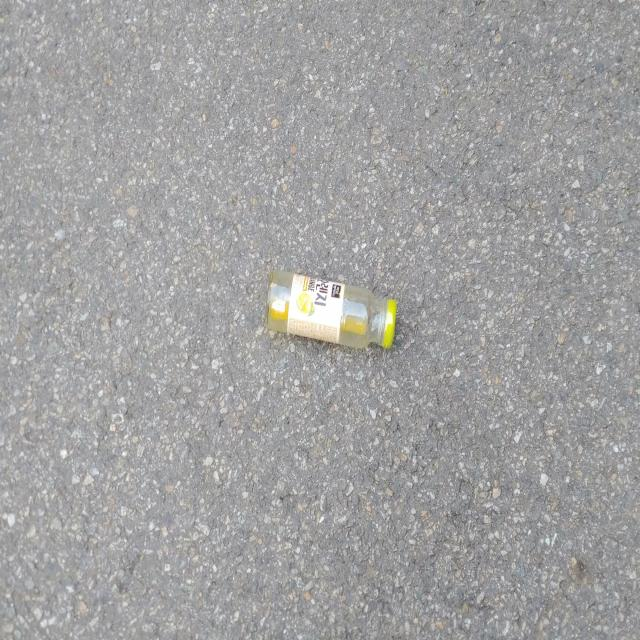glass: (265, 270, 396, 348)
